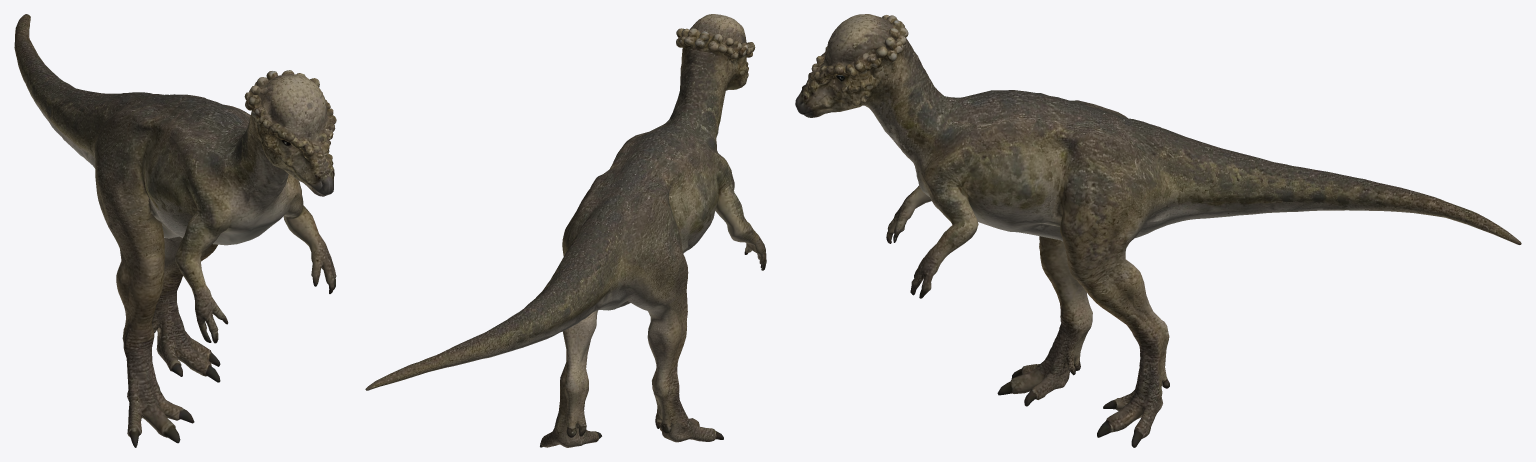
Rendered from pachycephalosaurus.glb.
3 renders of one model, left to right at view 1: azimuth 30°, elevation 25°; view 2: azimuth 150°, elevation 25°; view 3: azimuth 270°, elevation 25°, orthographic. The views are drawn at different scales.
Parts seen in each view (by area): view 1: dino; view 2: dino; view 3: dino.
Part boxes in pixels (x1=…): dino: x1=14, y1=14, x2=336, y2=447; dino: x1=365, y1=14, x2=766, y2=447; dino: x1=795, y1=14, x2=1521, y2=447.
Bounding box in the file's own units: 1.12 × 2.74 × 4.5.
1 material, 1 textured.
